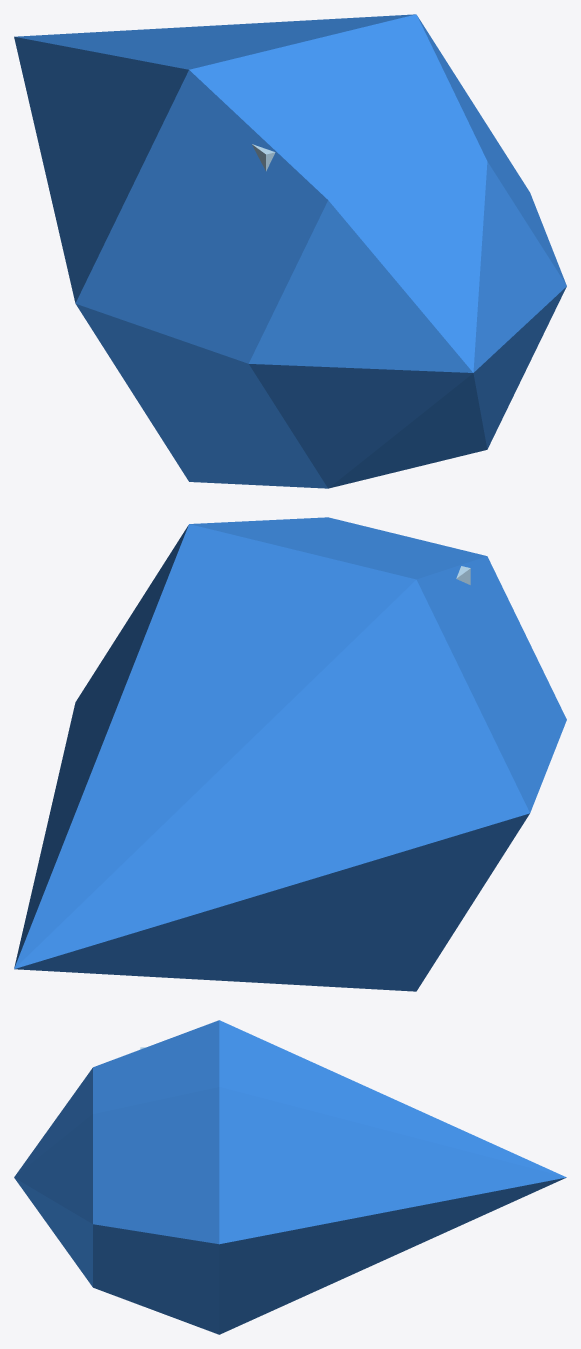
Rendered from WaterDrop.obj.
3 renders of one model, top to bottom at view 1: azimuth 30°, elevation 25°; view 2: azimuth 150°, elevation 25°; view 3: azimuth 270°, elevation 25°, orthographic. The views are drawn at different scales.
Parts seen in each view (by area): view 1: Drop; view 2: Drop; view 3: Drop.
Boxes of the visible parts, x1,y1,x2,y2 form: Drop: (14,14,566,488); Drop: (14,517,566,991); Drop: (14,1020,566,1334).
Size of the model in its own units: 0.2 by 0.1732 by 0.35.
